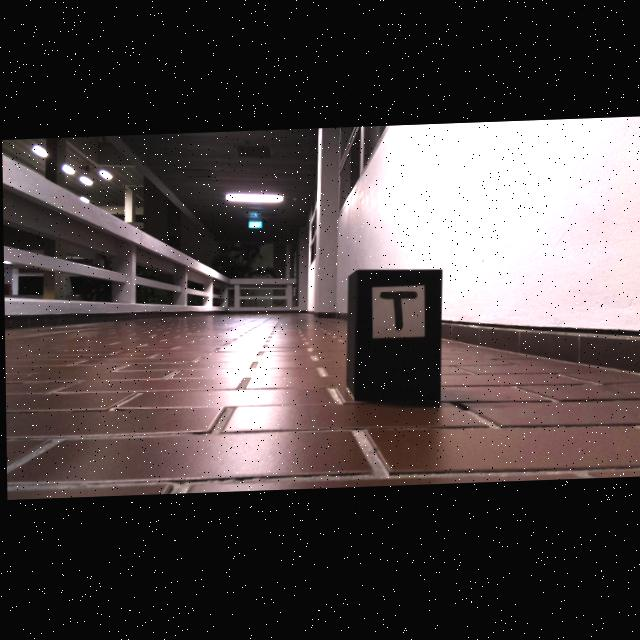T: (380, 295, 417, 335)
